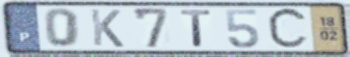0: (41, 7, 83, 49)
5: (224, 7, 262, 50)
7: (131, 7, 172, 50)
C: (265, 5, 311, 52)
K: (88, 8, 126, 49)
T: (178, 9, 215, 49)
